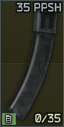PPSh-41 7.62x25 35-round magazine: (0, 0, 64, 127)
